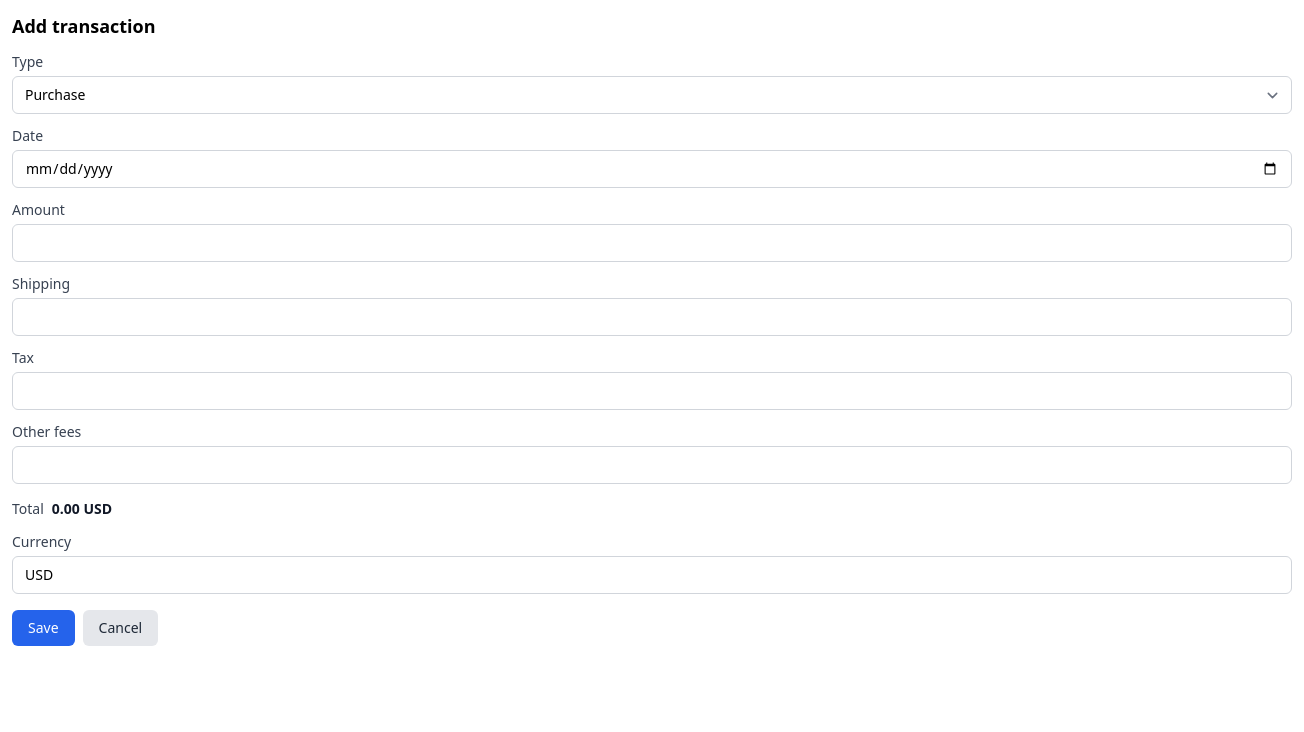
Test: TransactionForm › requires a date
Click the button "Save". click: click(43, 628)
box: x1=12 y1=610 x2=75 y2=646
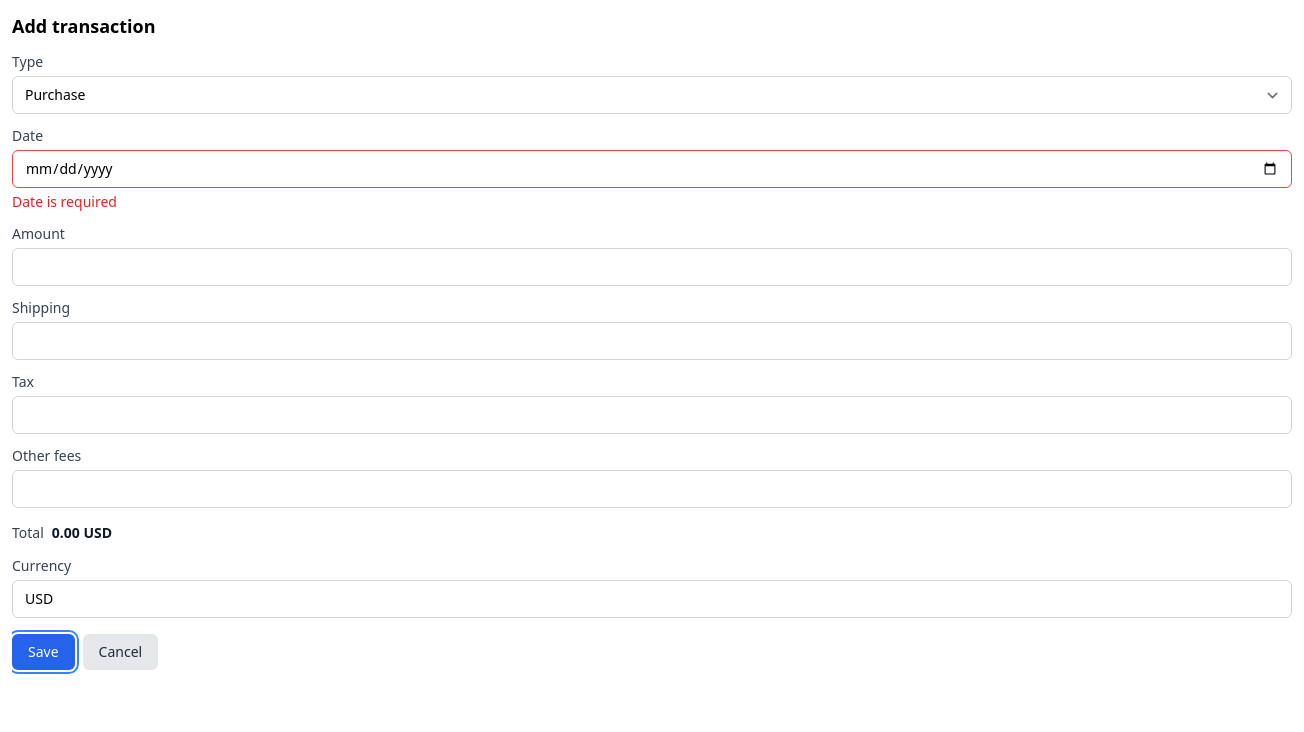
Expected: the text "Date is required" is shown, x1=12 y1=192 x2=117 y2=211
